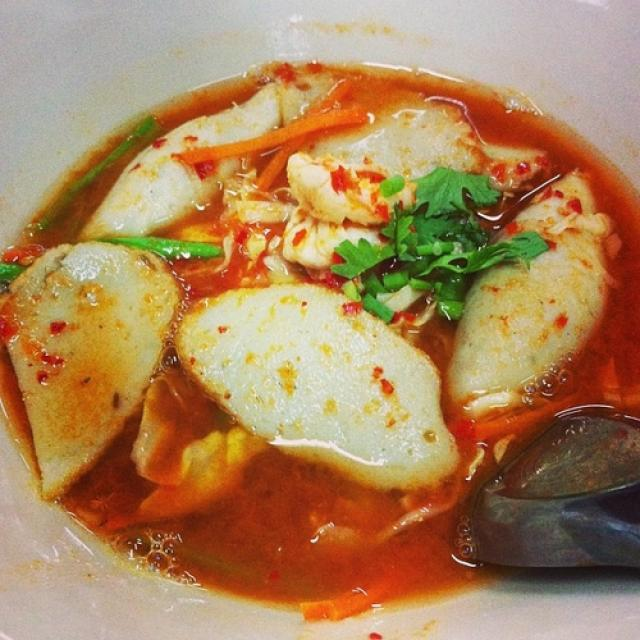汤锅炖物: (21, 34, 620, 616)
